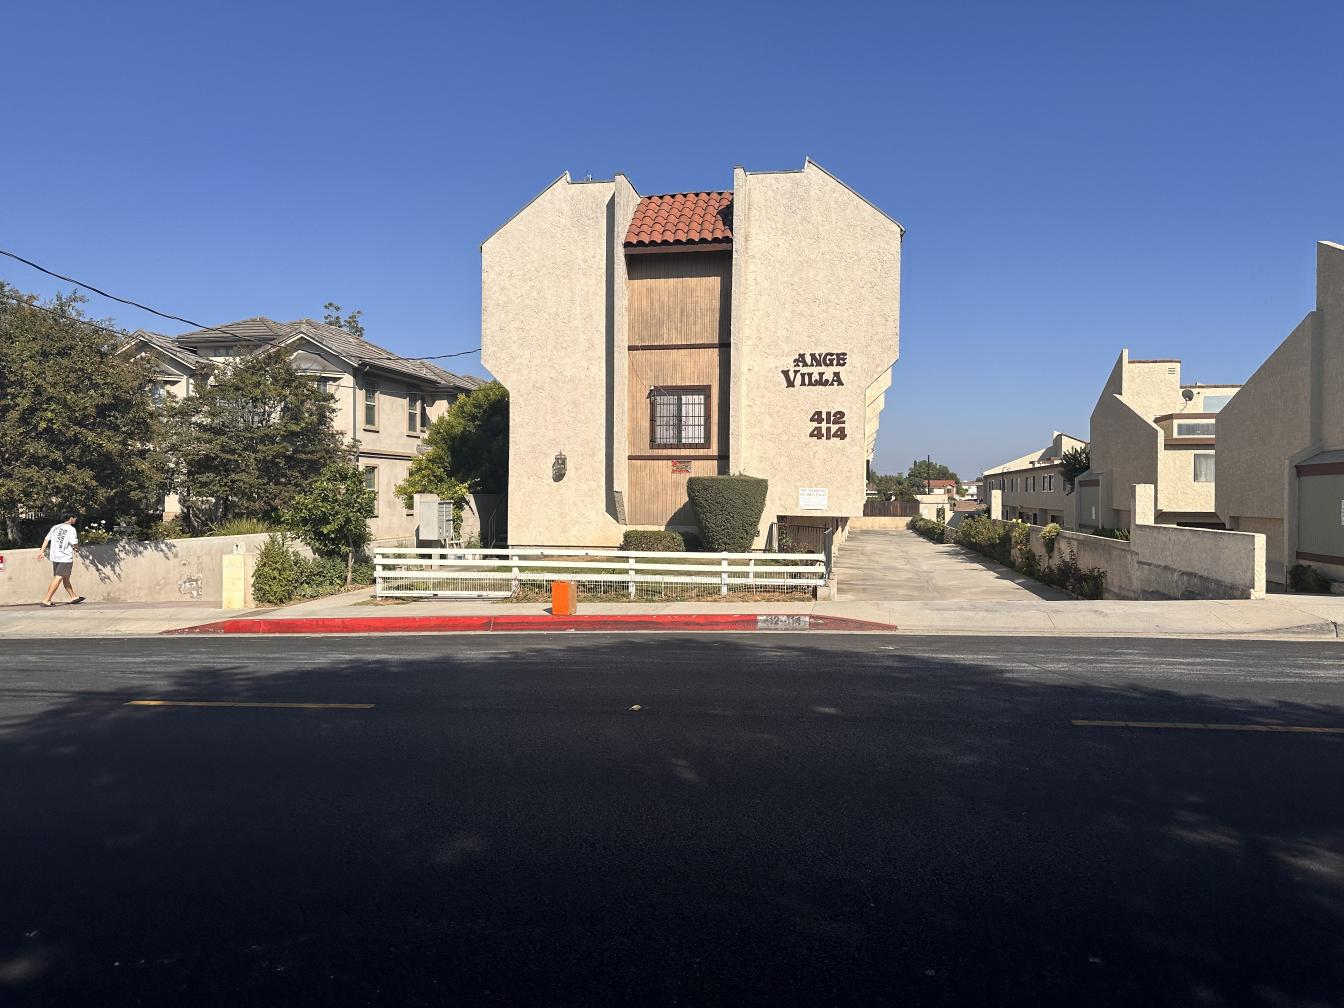orange box: (550, 579, 580, 615)
